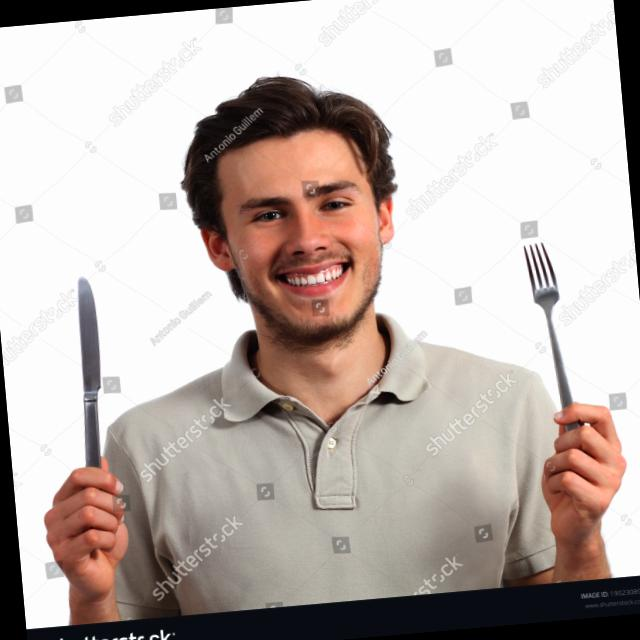fork: (520, 238, 590, 466)
